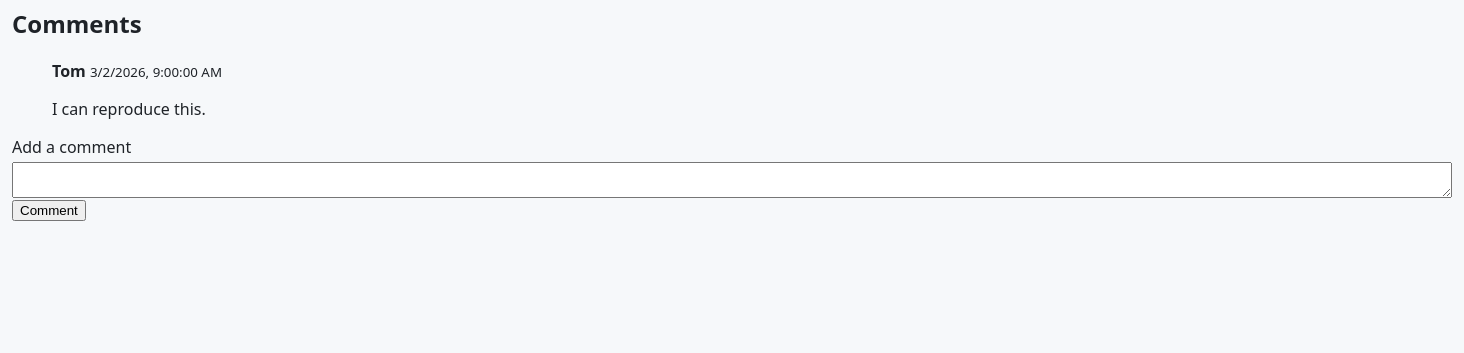
Scenario: CommentsSection › shows a pending comment immediately and replaces it with the saved one
Later steps or results of the test are not shown.
Type "Fixed in staging." into the text box labelled "Add a comment" at (732, 180), box [12,162,1452,198]
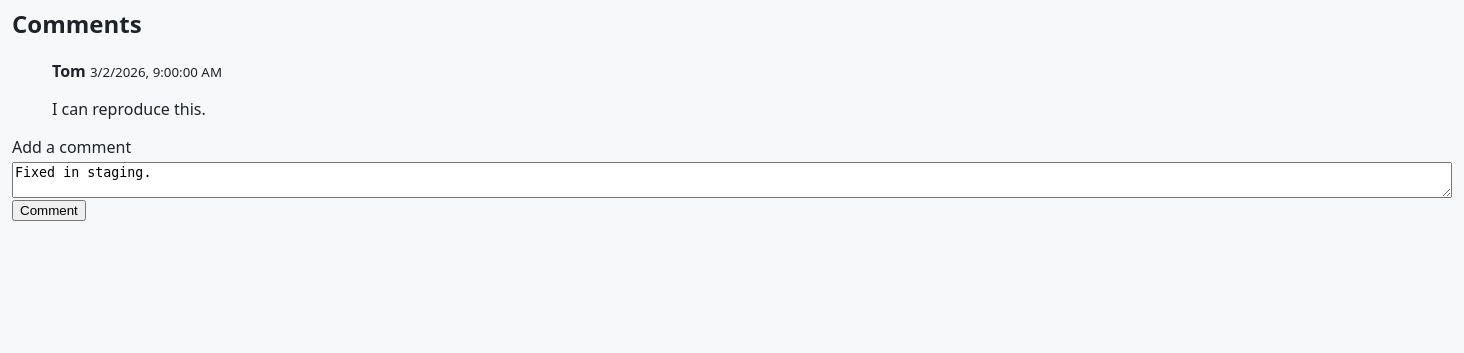
Click the button "Comment" at (49, 210), box [12,200,86,221]
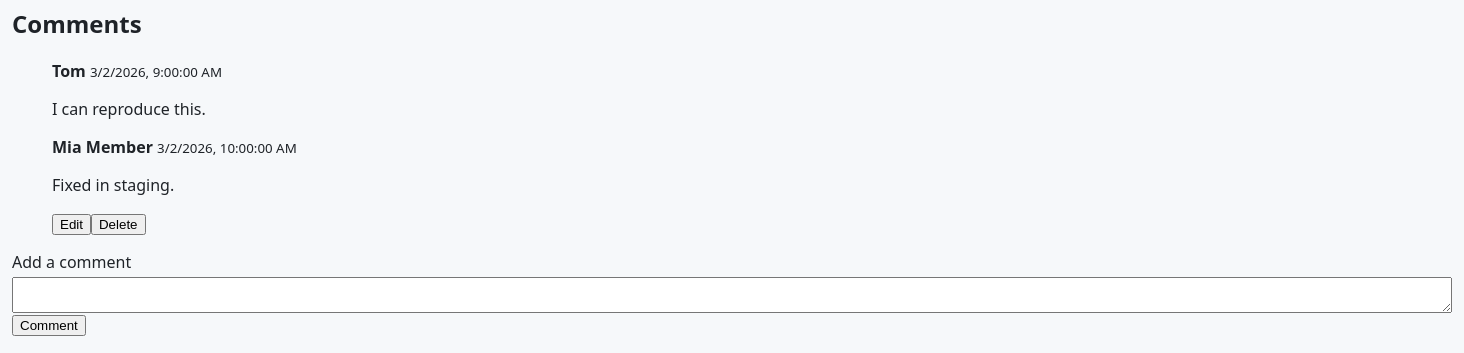
Expected: the text box labelled "Add a comment" is empty, [12,277,1452,313]
Result: the list item with test id "comment" shows "Fixed in staging." at [52,174,174,196]
Result: the number of list items with test id "comment" is 2 at [52,60,222,120]; [52,136,297,235]
